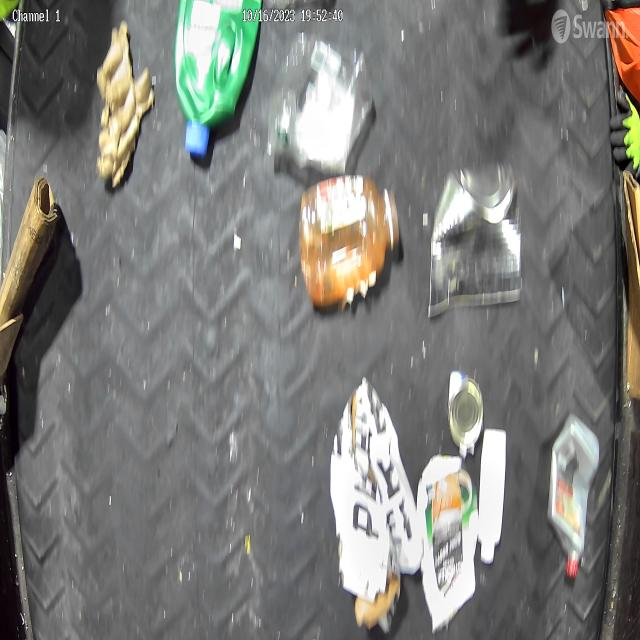can: (429, 160, 523, 329), (448, 362, 488, 459)
non_white_jug: (175, 0, 267, 175), (544, 416, 602, 582)
